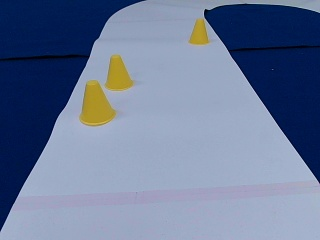cone: (80, 82, 115, 124), (103, 55, 133, 90), (189, 19, 208, 44)
